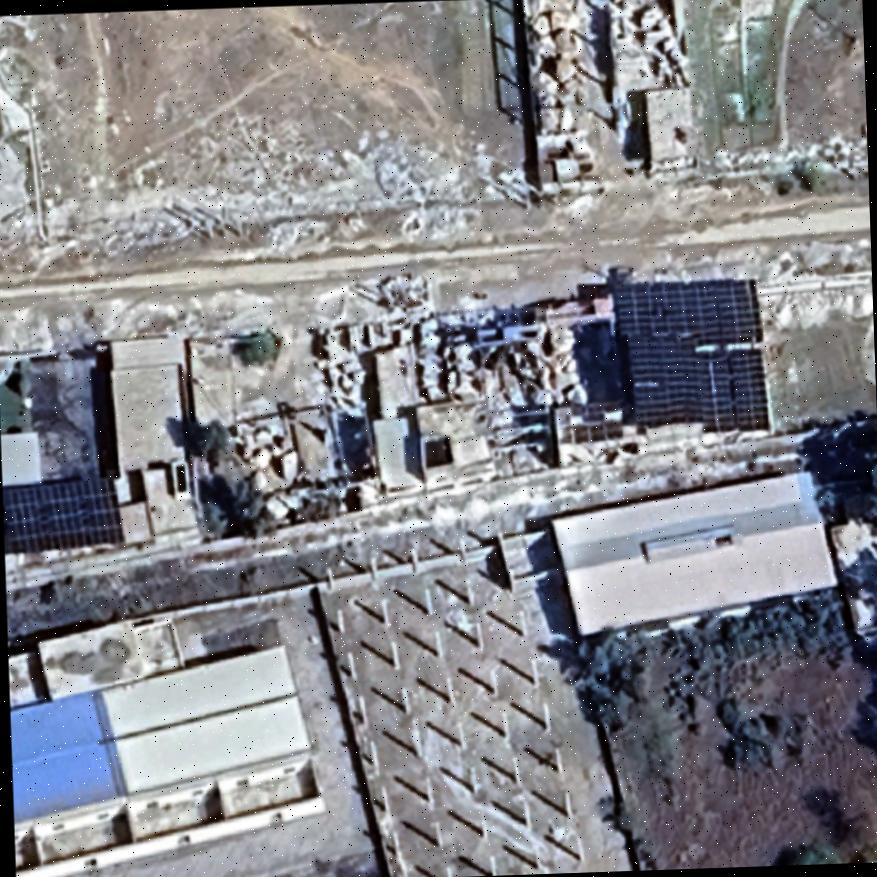Solarpanel: (602, 271, 776, 441), (1, 469, 126, 558)
